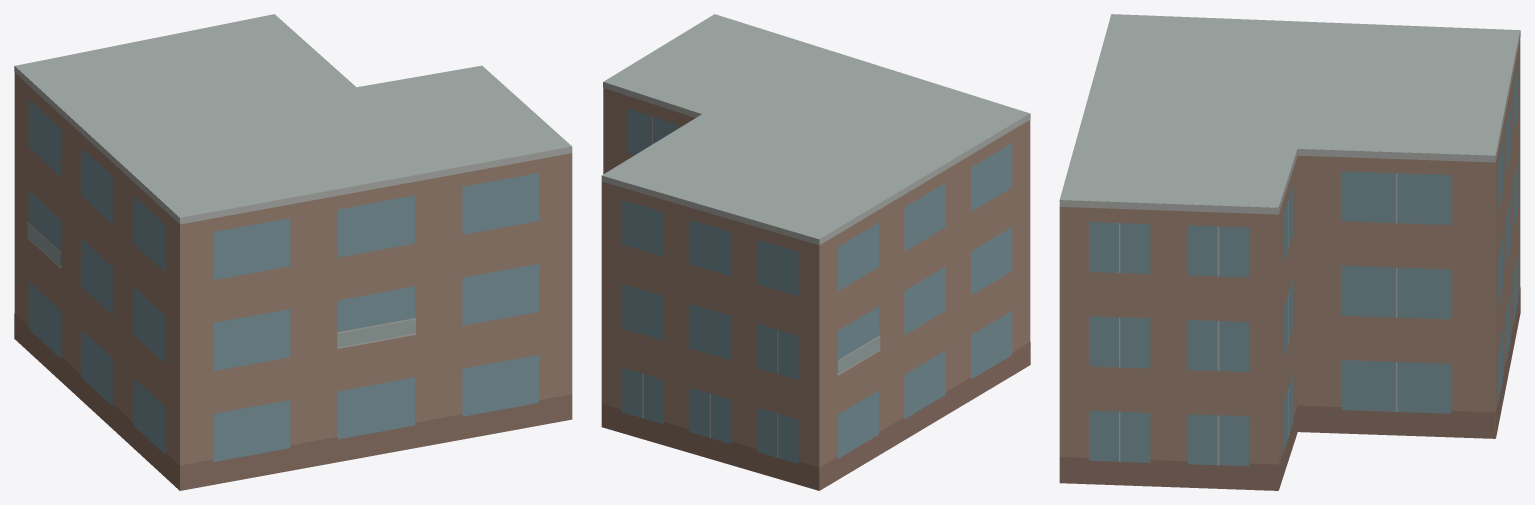
File: survey-upis-32587184.glb
3 renders of one model, left to right at view 1: azimuth 30°, elevation 25°; view 2: azimuth 150°, elevation 25°; view 3: azimuth 270°, elevation 25°, orthographic. The views are drawn at different scales.
Visible parts, largest first — view 1: survey-upis-32587184.tmp; view 2: survey-upis-32587184.tmp; view 3: survey-upis-32587184.tmp.
Part boxes in pixels (x1,y1,x2,y2): survey-upis-32587184.tmp: (14, 14, 572, 490); survey-upis-32587184.tmp: (601, 14, 1030, 490); survey-upis-32587184.tmp: (1059, 14, 1520, 490).
Bounding box in the file's own units: 14.98 × 10.2 × 15.06.
